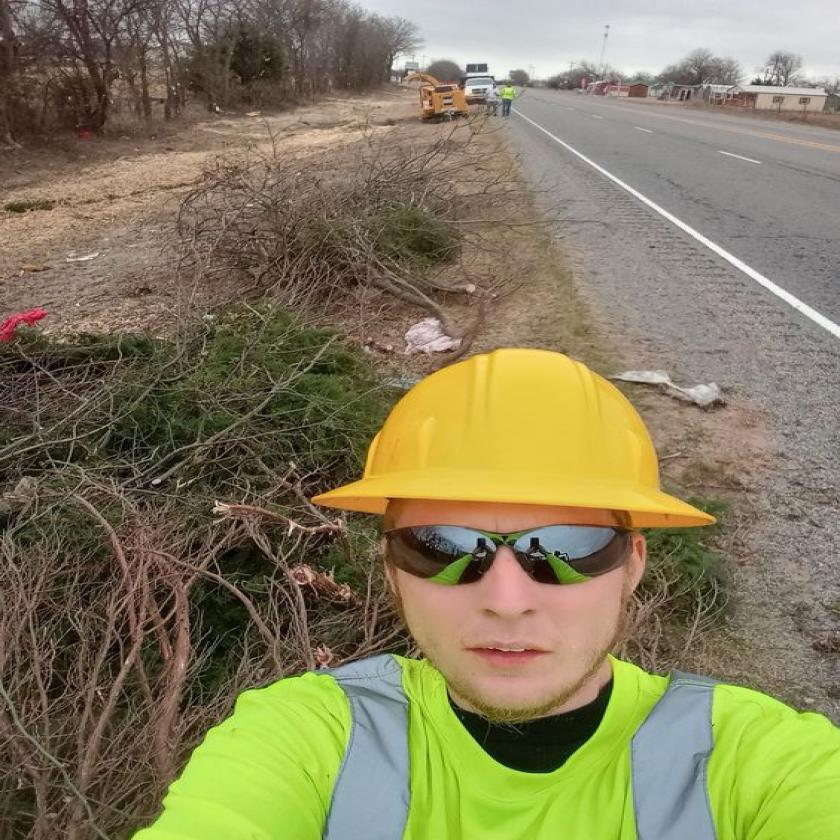Con_casco: (316, 318, 728, 746)
